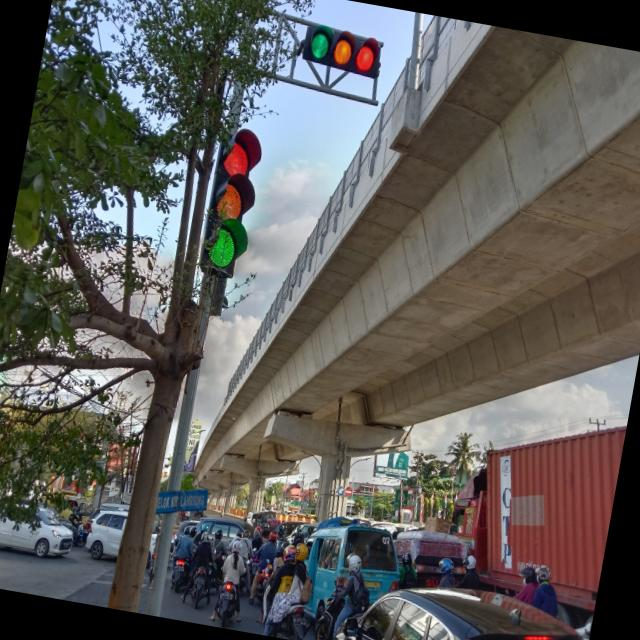green-lights: (206, 228, 237, 268), (308, 30, 330, 60)
red-lights: (220, 140, 250, 178), (353, 43, 375, 72)
yellow-lights: (213, 182, 244, 222), (332, 38, 354, 66)
